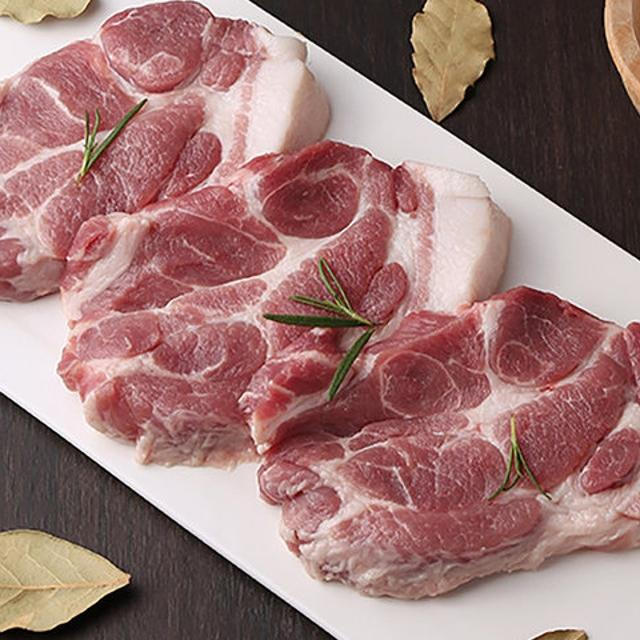beef: (55, 139, 513, 463), (241, 285, 640, 601), (0, 0, 334, 301)
